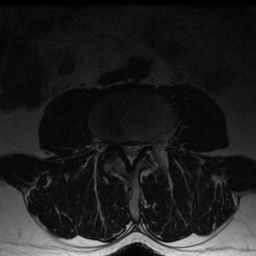CCS_normal: (127, 136, 134, 172)
LFS_severe_stenosis: (142, 131, 151, 157)
LLS_stenosis: (134, 134, 143, 164)
RFS_severe_stenosis: (110, 132, 119, 158)
RLS_stenosis: (119, 136, 127, 161)
